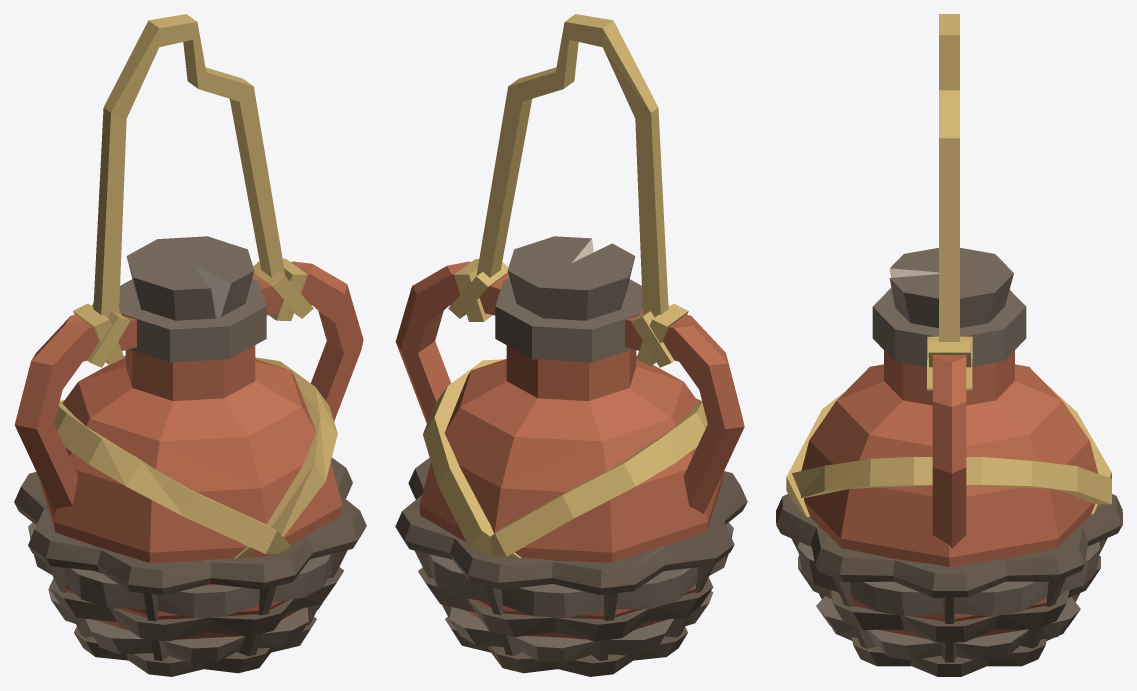
File: _bottle.fbx
The picture shows the model from 3 angles, left to right: view 1: azimuth 30°, elevation 25°; view 2: azimuth 150°, elevation 25°; view 3: azimuth 270°, elevation 25°; orthographic projection. The views are drawn at different scales.
Parts seen in each view (by area): view 1: bottle; view 2: bottle; view 3: bottle.
Part boxes in pixels (x1=…): bottle: x1=14, y1=14, x2=366, y2=676; bottle: x1=395, y1=14, x2=747, y2=676; bottle: x1=776, y1=14, x2=1122, y2=676.
Size of the model in its own units: 57.57 by 96.56 by 50.81.
